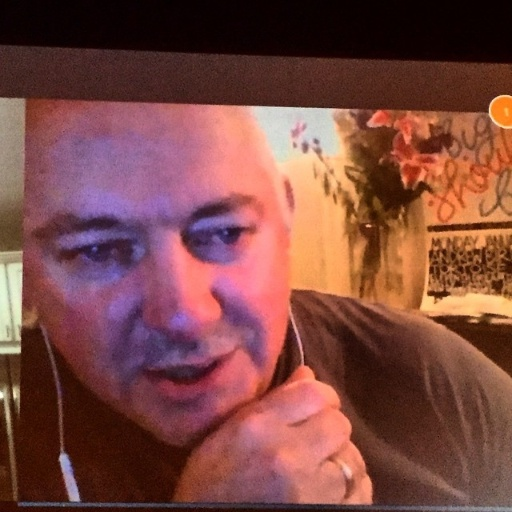hand: (169, 369, 375, 511)
